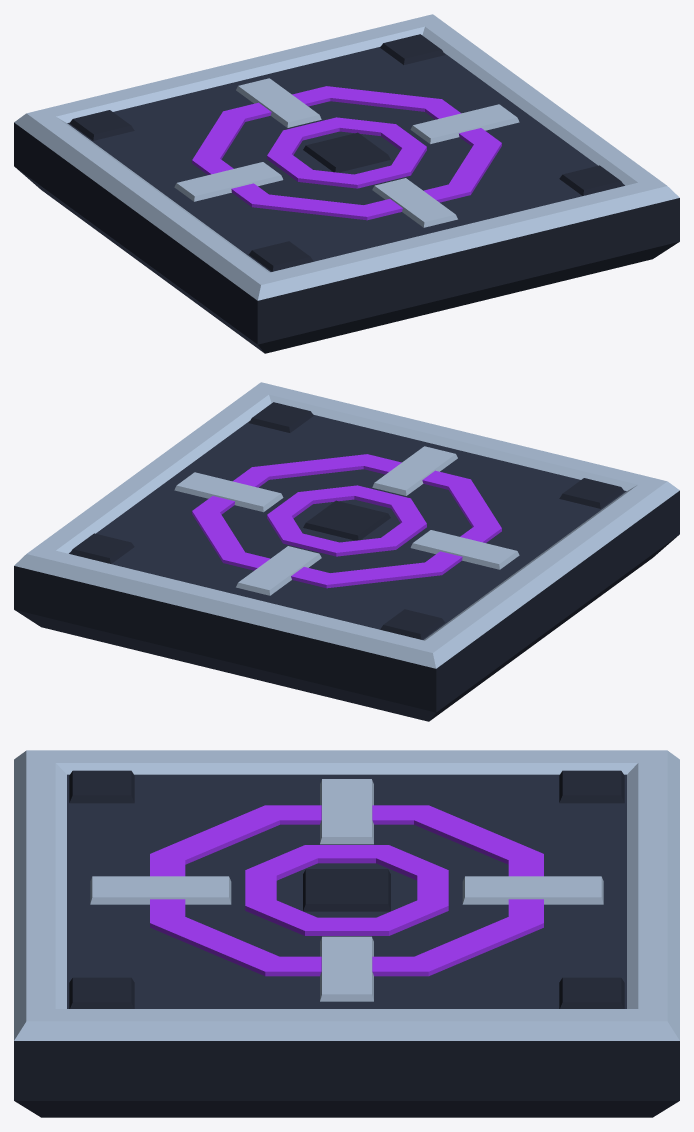
File: SM_ArenaTile_04_MagneticStorm.obj
The picture shows the model from 3 angles, top to bottom: view 1: azimuth 30°, elevation 25°; view 2: azimuth 150°, elevation 25°; view 3: azimuth 270°, elevation 25°; orthographic projection. The views are drawn at different scales.
Parts seen in each view (by area): view 1: SM_ArenaTile_04_MagneticStorm__MAT_AltNeutral, SM_ArenaTile_04_MagneticStorm__MAT_DarkNeutral, SM_ArenaTile_04_MagneticStorm__MAT_LightTrim, SM_ArenaTile_04_MagneticStorm__EMI_Magnetic; view 2: SM_ArenaTile_04_MagneticStorm__MAT_AltNeutral, SM_ArenaTile_04_MagneticStorm__MAT_DarkNeutral, SM_ArenaTile_04_MagneticStorm__MAT_LightTrim, SM_ArenaTile_04_MagneticStorm__EMI_Magnetic; view 3: SM_ArenaTile_04_MagneticStorm__MAT_AltNeutral, SM_ArenaTile_04_MagneticStorm__MAT_LightTrim, SM_ArenaTile_04_MagneticStorm__MAT_DarkNeutral, SM_ArenaTile_04_MagneticStorm__EMI_Magnetic.
Part boxes in pixels (left/top/right/bottom): SM_ArenaTile_04_MagneticStorm__MAT_AltNeutral: left=67, top=46, right=624, bottom=271; SM_ArenaTile_04_MagneticStorm__MAT_DarkNeutral: left=14, top=34, right=679, bottom=353; SM_ArenaTile_04_MagneticStorm__MAT_LightTrim: left=14, top=14, right=679, bottom=300; SM_ArenaTile_04_MagneticStorm__EMI_Magnetic: left=192, top=86, right=501, bottom=220; SM_ArenaTile_04_MagneticStorm__MAT_AltNeutral: left=69, top=414, right=626, bottom=639; SM_ArenaTile_04_MagneticStorm__MAT_DarkNeutral: left=14, top=402, right=679, bottom=721; SM_ArenaTile_04_MagneticStorm__MAT_LightTrim: left=14, top=382, right=679, bottom=668; SM_ArenaTile_04_MagneticStorm__EMI_Magnetic: left=192, top=454, right=501, bottom=588; SM_ArenaTile_04_MagneticStorm__MAT_AltNeutral: left=67, top=774, right=626, bottom=1008; SM_ArenaTile_04_MagneticStorm__MAT_LightTrim: left=14, top=750, right=679, bottom=1040; SM_ArenaTile_04_MagneticStorm__MAT_DarkNeutral: left=14, top=770, right=679, bottom=1117; SM_ArenaTile_04_MagneticStorm__EMI_Magnetic: left=150, top=805, right=543, bottom=976.
Bounding box in the file's own units: 11.8 × 2 × 11.8.
Materials: 4 (4 with a texture image).
